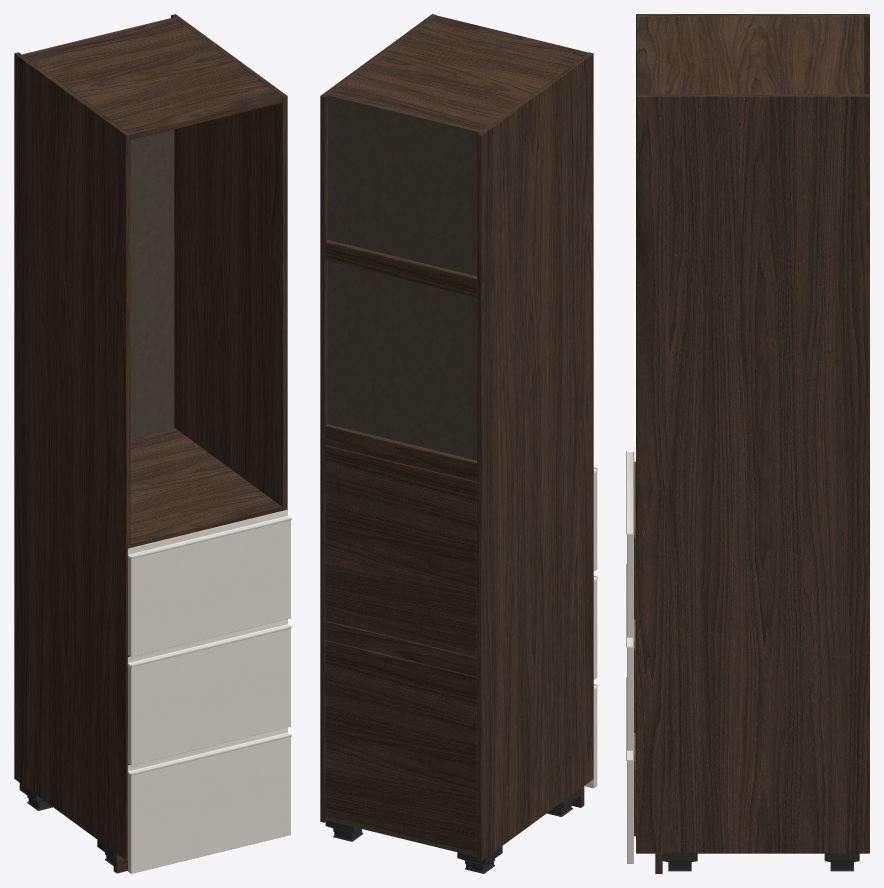
3 renders of one model, left to right at view 1: azimuth 30°, elevation 25°; view 2: azimuth 150°, elevation 25°; view 3: azimuth 270°, elevation 25°, orthographic. The views are drawn at different scales.
Visible parts, largest first — view 1: HK1001267; view 2: HK1001267; view 3: HK1001267.
Part boxes in pixels (left/top/right/bottom): HK1001267: left=14, top=14, right=291, bottom=873; HK1001267: left=320, top=14, right=597, bottom=873; HK1001267: left=626, top=14, right=869, bottom=873.
Size of the model in its own units: 0.5 by 2.2 by 0.6256.
8 materials, 7 textured.
